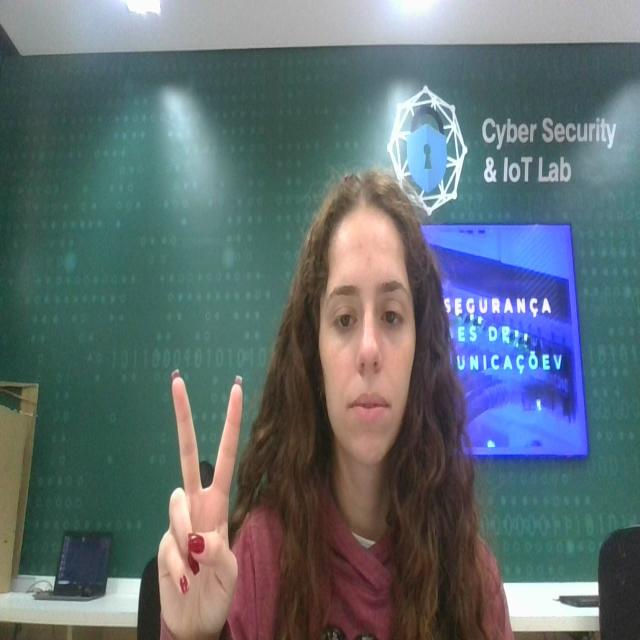V: (151, 362, 254, 640)
